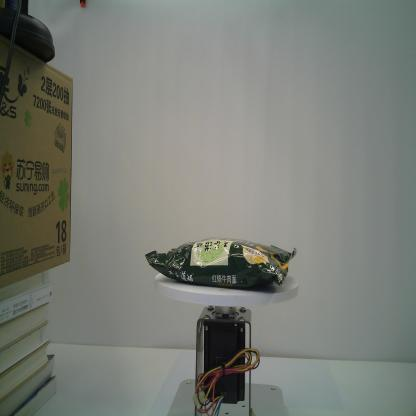Instant Noodles: (144, 233, 298, 290)
